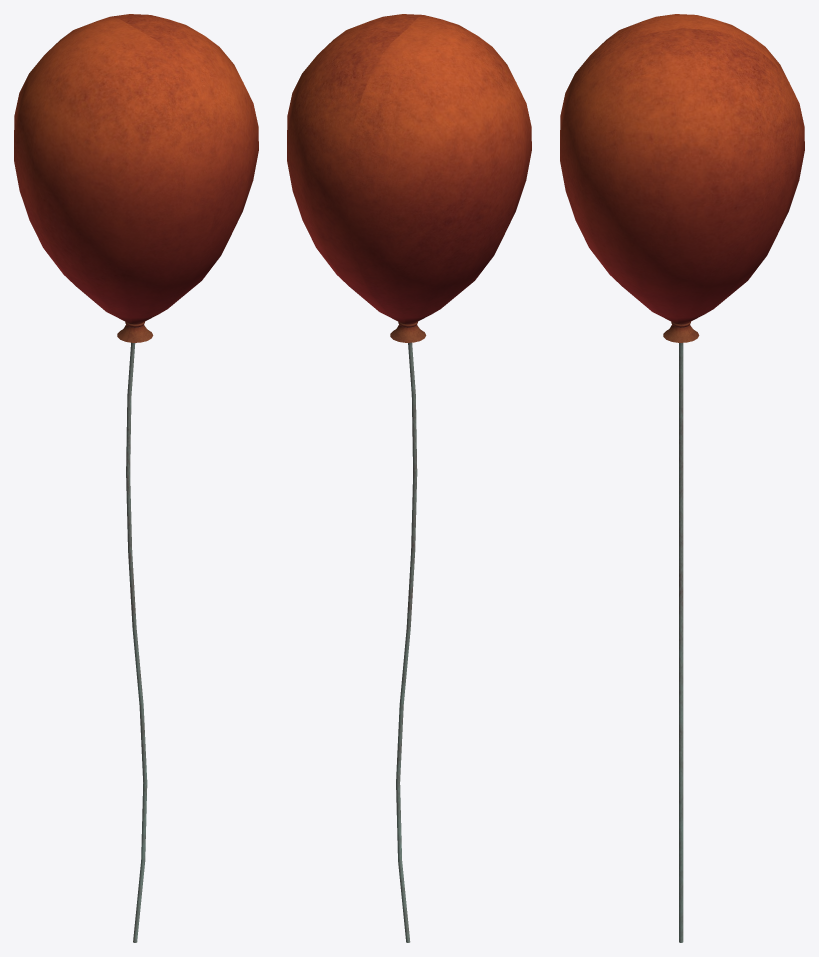
Rendered from 带动画的气球.fbx.
The picture shows the model from 3 angles, left to right: view 1: azimuth 30°, elevation 25°; view 2: azimuth 150°, elevation 25°; view 3: azimuth 270°, elevation 25°; orthographic projection.
Parts seen in each view (by area): view 1: 气球; view 2: 气球; view 3: 气球.
Part boxes in pixels (box(x1,y1,x2,y2)): 气球: box(14, 14, 258, 942); 气球: box(287, 14, 531, 942); 气球: box(560, 14, 804, 942).
Bounding box in the file's own units: 133 × 546 × 133.
Materials: 1 (1 with a texture image).
